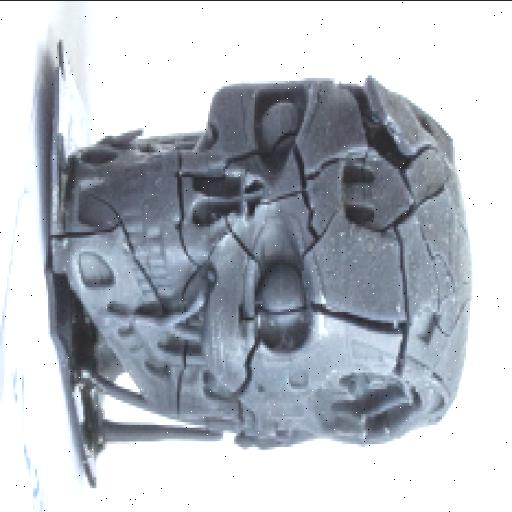cracks: (151, 121, 209, 429), (300, 276, 432, 358), (20, 186, 120, 268), (242, 129, 324, 221), (226, 276, 264, 440)
